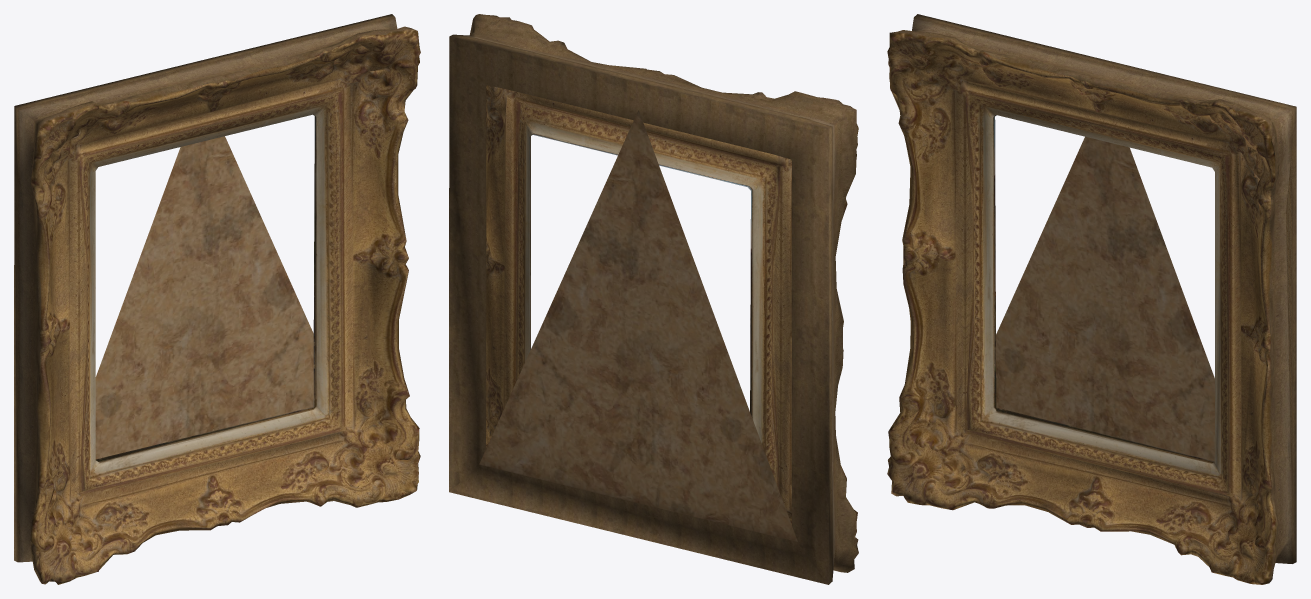
File: portrait_frame.glb
The picture shows the model from 3 angles, left to right: view 1: azimuth 30°, elevation 25°; view 2: azimuth 150°, elevation 25°; view 3: azimuth 330°, elevation 25°; orthographic projection.
Visible parts, largest first — view 1: portrait_frame; view 2: portrait_frame; view 3: portrait_frame.
Part boxes in pixels (left/top/right/bottom): portrait_frame: left=14, top=14, right=420, bottom=584; portrait_frame: left=449, top=14, right=858, bottom=584; portrait_frame: left=887, top=14, right=1296, bottom=584.
Size of the model in its own units: 1.19 by 1.38 by 0.1594.
1 material, 1 textured.
